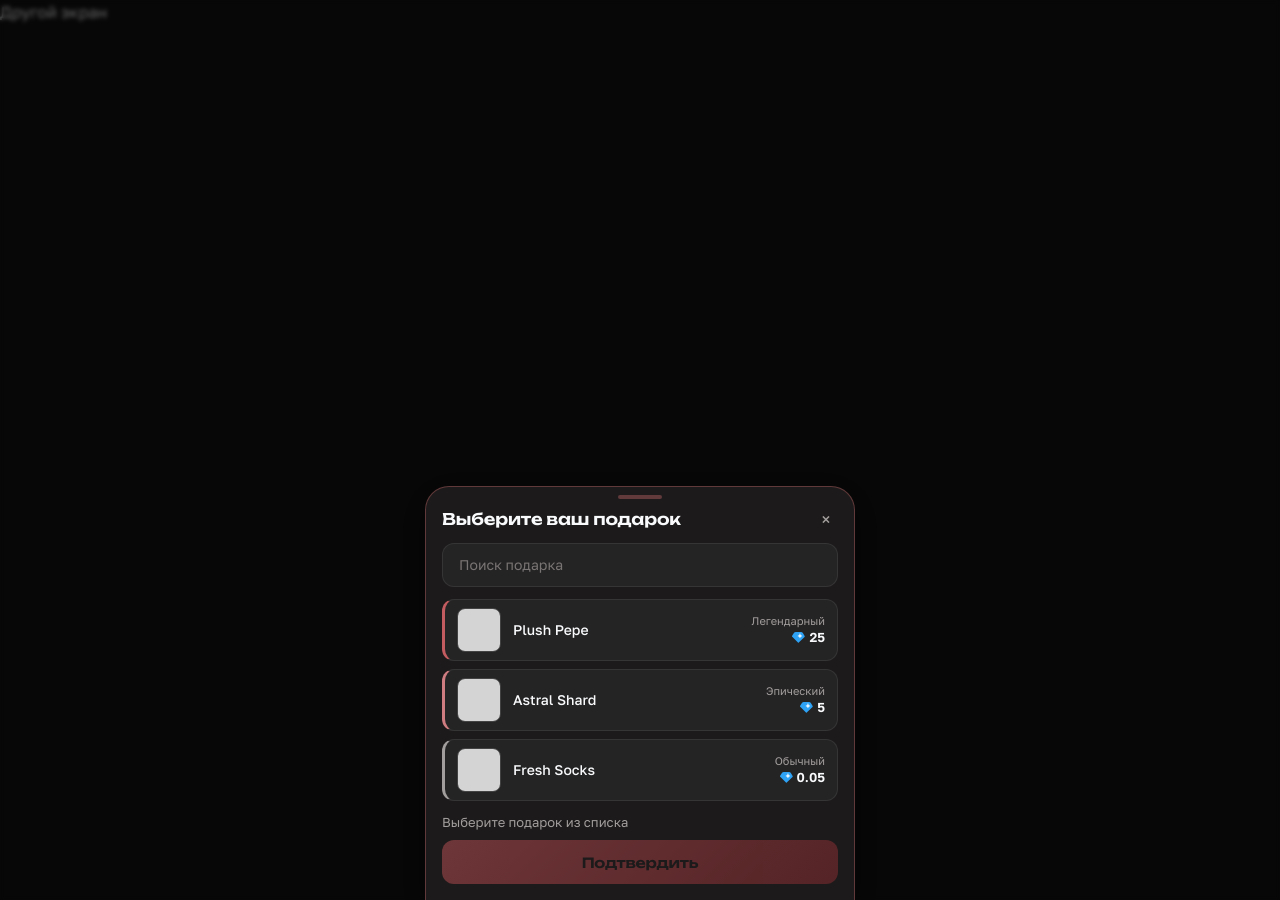
Test case: GiftPickerSheet (3.3: выбор подарка для игры) › сортирует по цене (дорогие сверху) и ищет по названию без учёта регистра
The width and height of the screenshot is (1280, 900).
Type "pepe" into the search field labelled "Поиск подарка".
click(640, 564); type("pepe")  # box [442, 542, 838, 586]
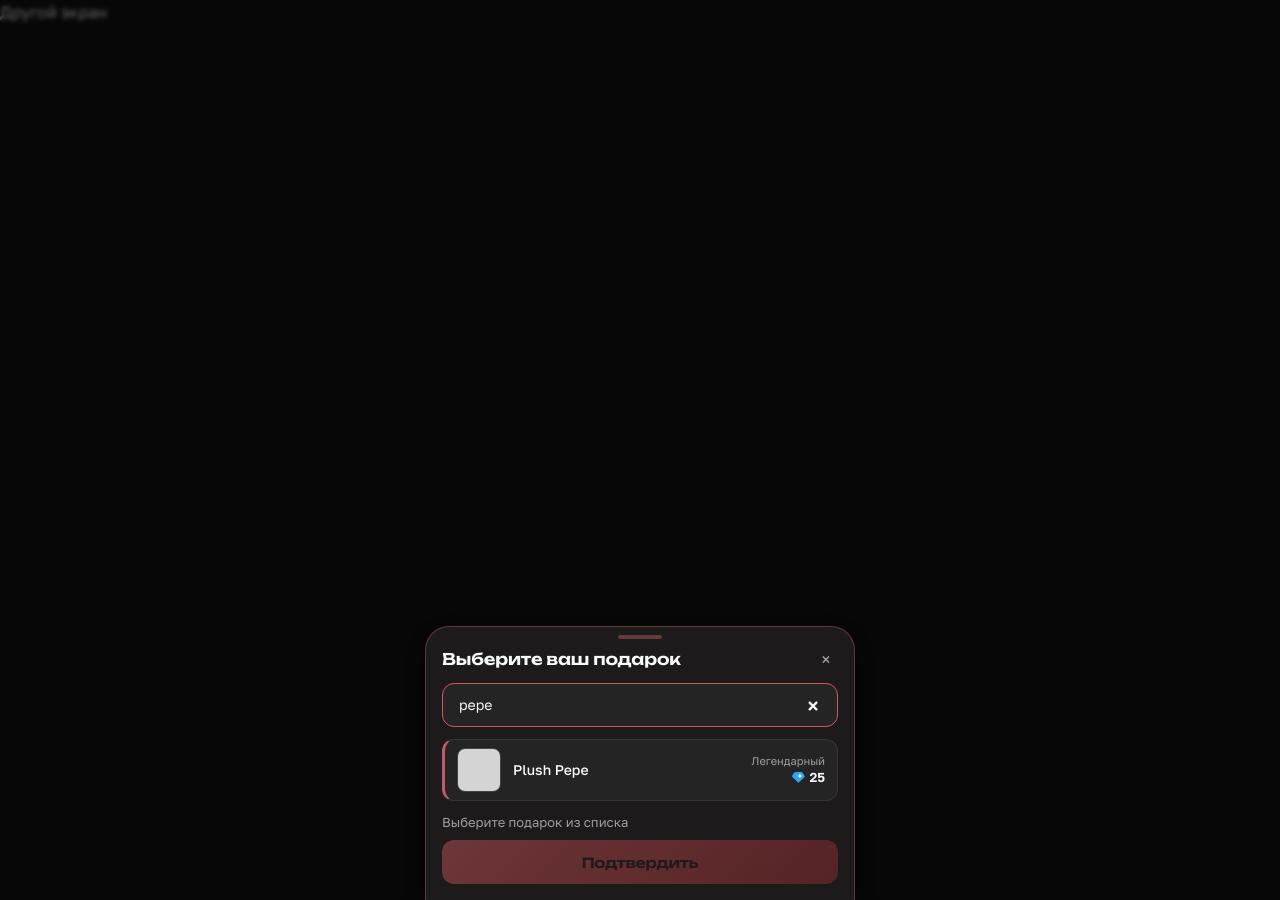
Expected: the text "Plush Pepe" is shown, [513, 761, 589, 778]
Expected: the button "Astral Shard" is gone
